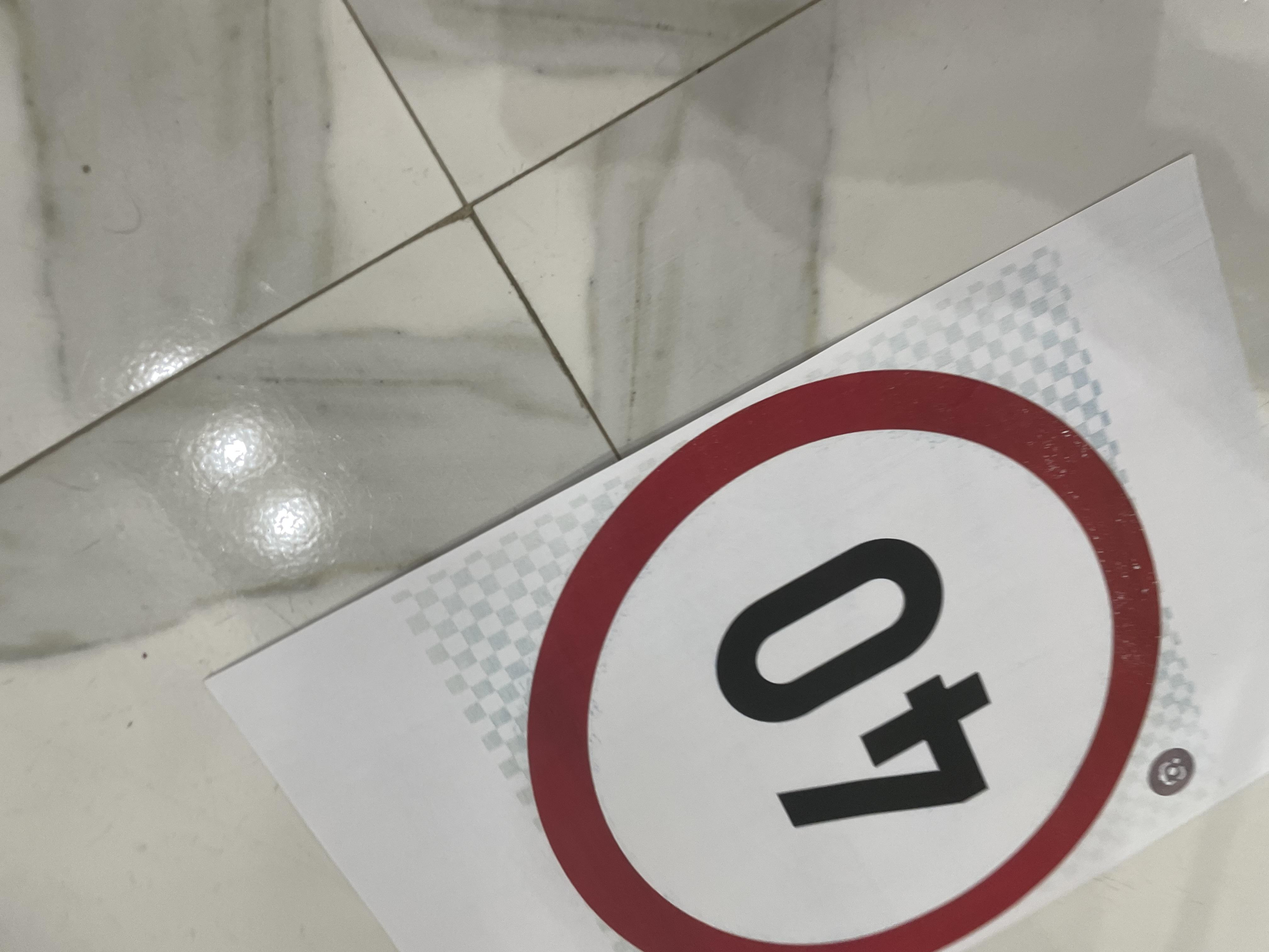40-Speed: (0, 371, 808, 895)
